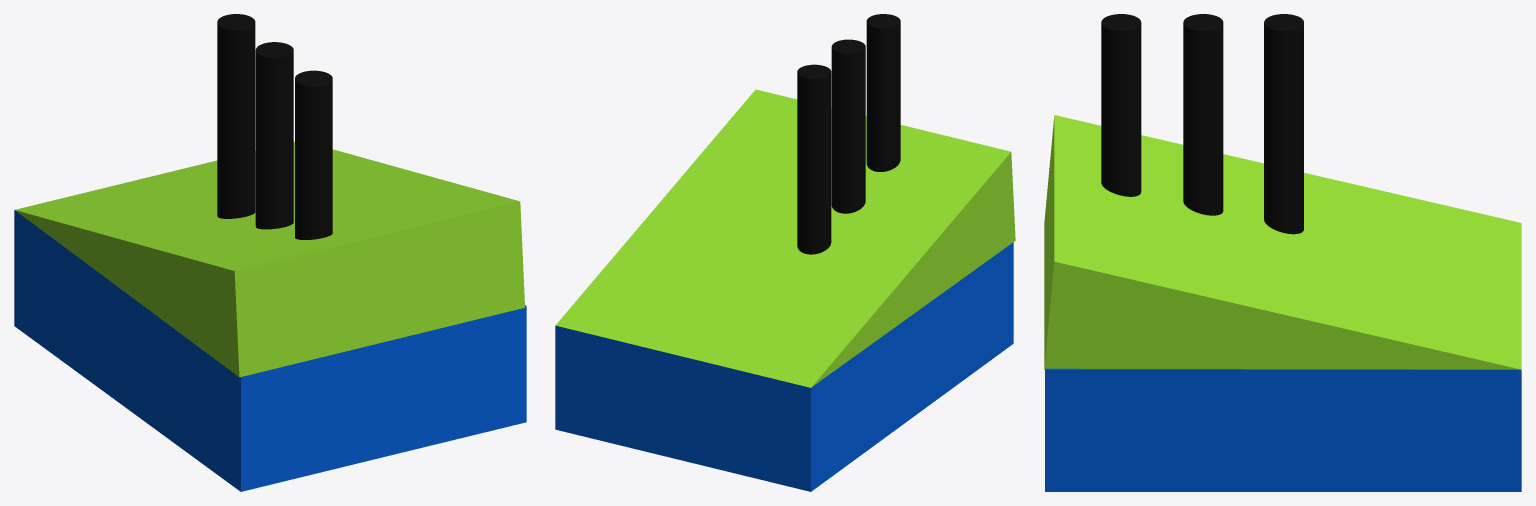
Rendered from factory.fbx.
The picture shows the model from 3 angles, left to right: view 1: azimuth 30°, elevation 25°; view 2: azimuth 150°, elevation 25°; view 3: azimuth 270°, elevation 25°; orthographic projection. The views are drawn at different scales.
Visible parts, largest first — view 1: Cube, Cylinder.002, Cylinder.001, Cylinder; view 2: Cube, Cylinder.002, Cylinder.001, Cylinder; view 3: Cube, Cylinder.002, Cylinder.001, Cylinder.
Part boxes in pixels (x1,y1,x2,y2): Cube: (14,141,526,491); Cylinder.002: (217,14,255,218); Cylinder.001: (255,42,293,229); Cylinder: (295,70,332,239); Cube: (555,89,1015,491); Cylinder.002: (797,64,831,254); Cylinder.001: (831,39,865,213); Cylinder: (866,14,900,171); Cube: (1044,115,1521,491); Cylinder.002: (1264,14,1303,234); Cylinder.001: (1183,14,1223,215); Cylinder: (1101,14,1141,196).
Size of the model in its own units: 804 by 963 by 1099.
